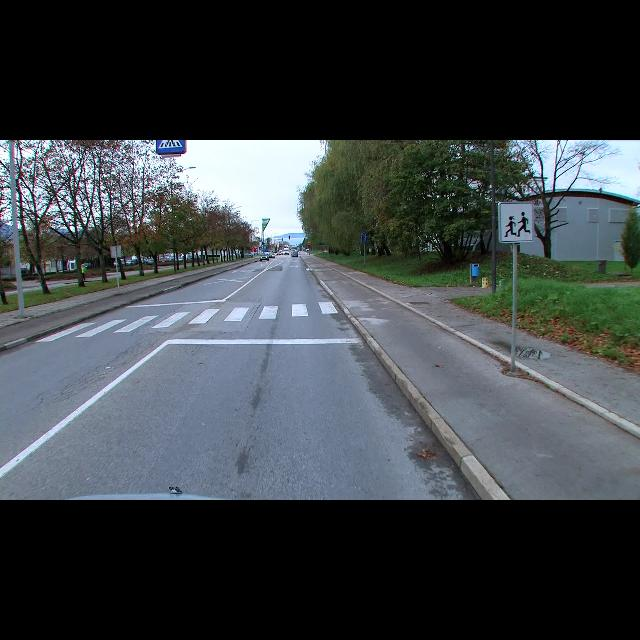Rectangle: (498, 201, 534, 243), (362, 233, 368, 244)
Squared: (156, 140, 188, 156)
